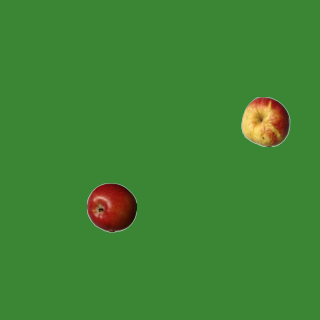Apple Braeburn: (86, 182, 136, 232)
Apple Red Yellow 1: (240, 96, 290, 146)
